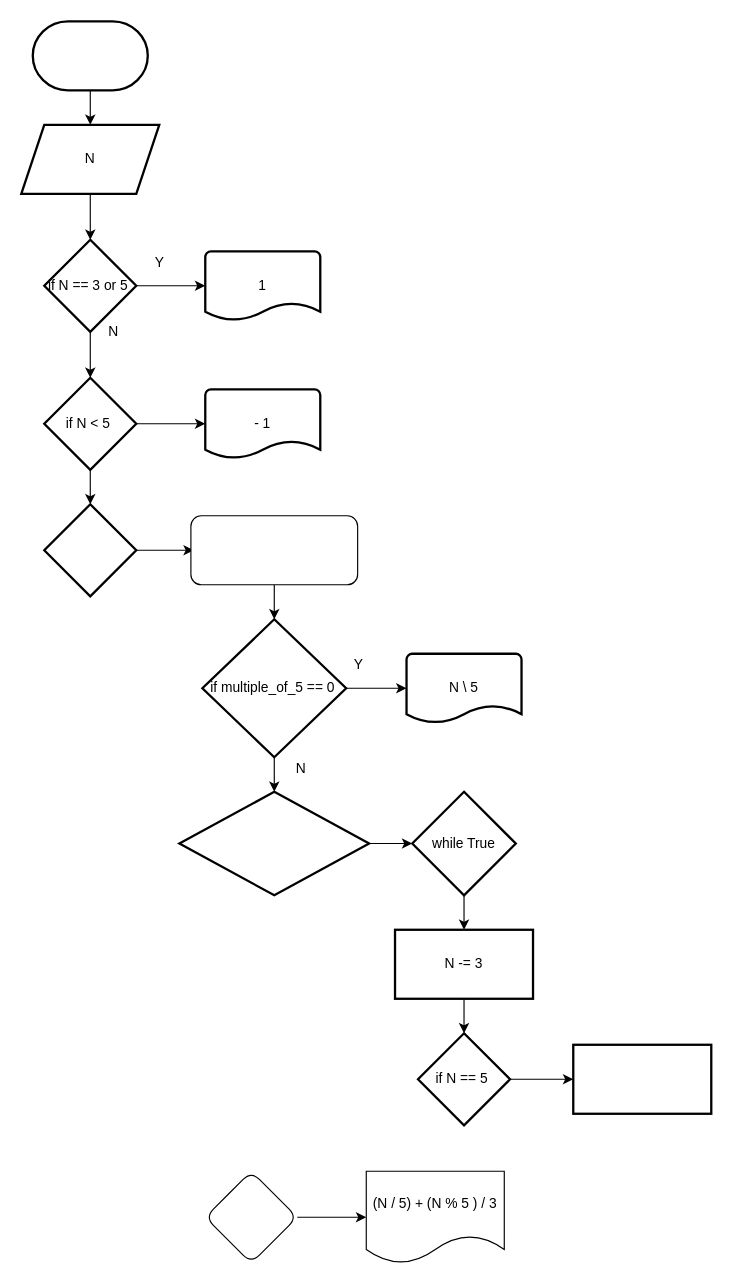
The diagram is 731 pixels wide and 1283 high, and some of its shapes have lost their labels. The box of each missing label's shape, as (x1, y1, x2, y2) in pixels:
if multiple_of_5 % 3 == 0: (204, 1170, 297, 1263)
if multiple_of_5 == 1 or 2 or 4: (178, 790, 370, 896)
if N > 5: (43, 503, 137, 597)
multiple_of_5 = N % 5: (190, 515, 358, 585)
start: (31, 20, 148, 91)
